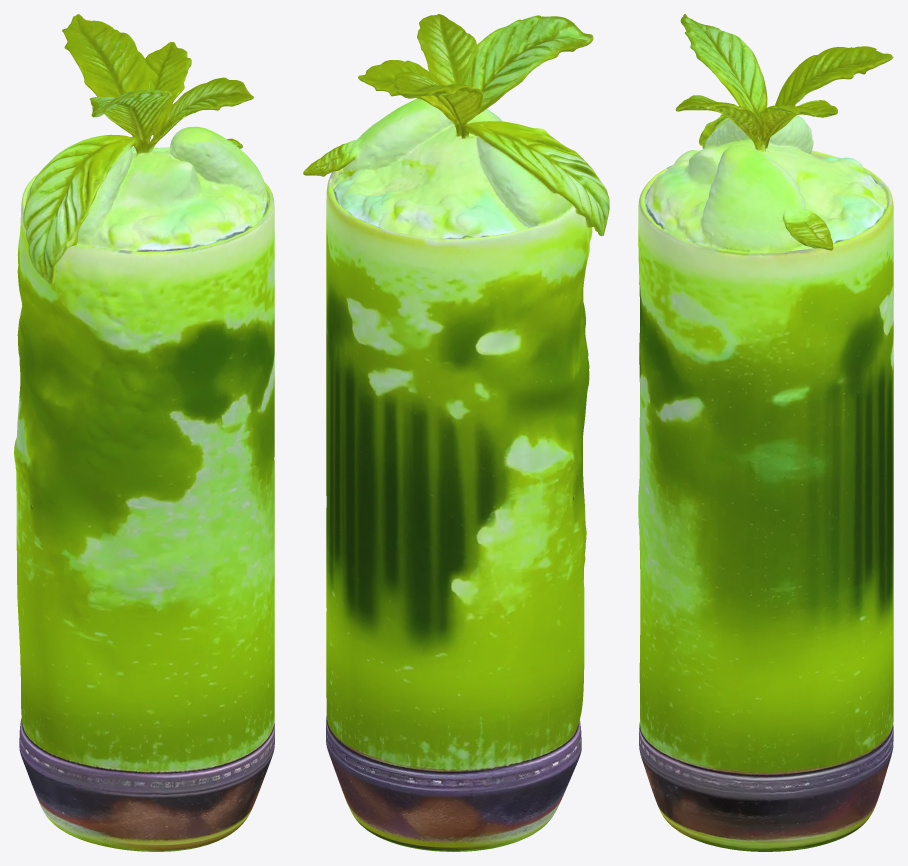
The model's file is Mint_Margerita.glb.
3 renders of one model, left to right at view 1: azimuth 30°, elevation 25°; view 2: azimuth 150°, elevation 25°; view 3: azimuth 270°, elevation 25°, orthographic.
Bounding box in the file's own units: 0.6404 × 1.9 × 0.5756.
1 material, 1 textured.
